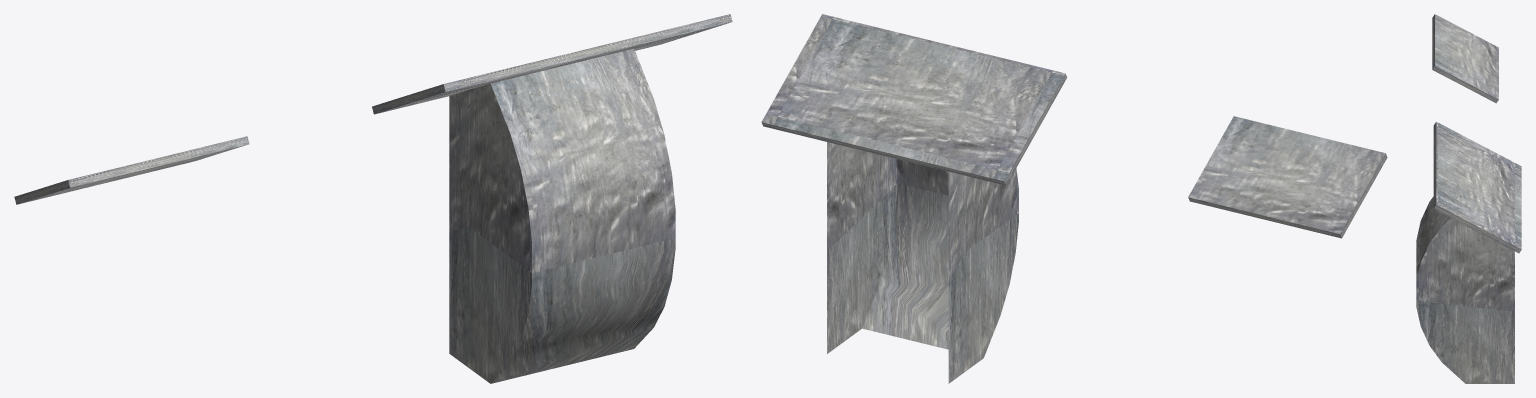
File: atrilresp.obj
3 renders of one model, left to right at view 1: azimuth 30°, elevation 25°; view 2: azimuth 150°, elevation 25°; view 3: azimuth 270°, elevation 25°, orthographic. The views are drawn at different scales.
Visible parts, largest first — view 1: polySurface6; view 2: polySurface6; view 3: polySurface6.
Boxes of the visible parts, <box> form: polySurface6: <box>14,14,732,383</box>; polySurface6: <box>761,14,1387,383</box>; polySurface6: <box>1416,14,1521,383</box>.
Size of the model in its own units: 4.62 by 2.23 by 1.07.
